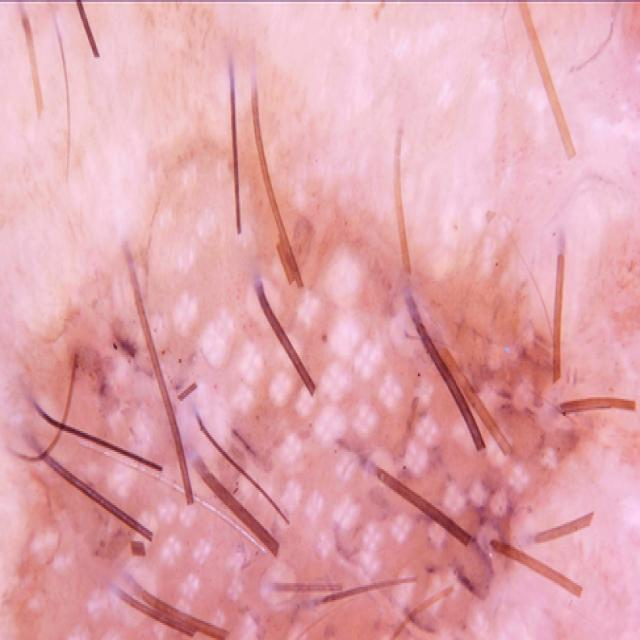Melanoma: (0, 173, 568, 640)
